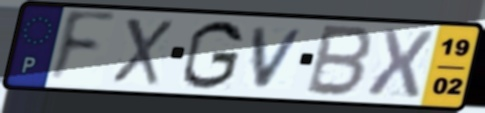B: (302, 22, 378, 99)
F: (44, 8, 119, 87)
G: (179, 18, 247, 92)
V: (250, 26, 310, 91)
X: (362, 26, 437, 100), (109, 15, 176, 88)
